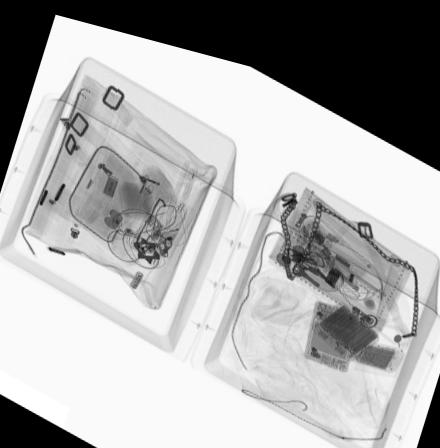Powerbank: (314, 282, 384, 340)
